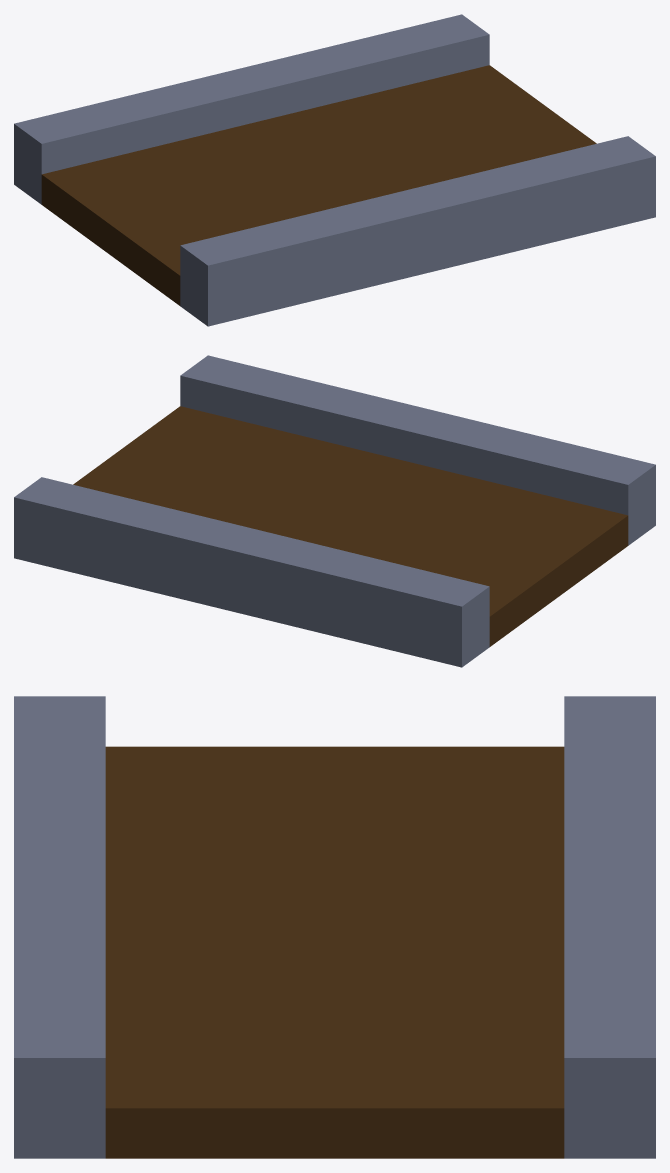
File: trop.fbx
3 views of the same model, one above another, from view 1: azimuth 30°, elevation 25°; view 2: azimuth 150°, elevation 25°; view 3: azimuth 270°, elevation 25° (orthographic). The views are drawn at different scales.
Visible parts, largest first — view 1: Plane.023; view 2: Plane.023; view 3: Plane.023.
Part boxes in pixels (x1,y1,x2,y2): Plane.023: [14, 14, 655, 326]; Plane.023: [14, 355, 655, 667]; Plane.023: [14, 696, 655, 1158].
Bounding box in the file's own units: 200 × 26 × 150.
